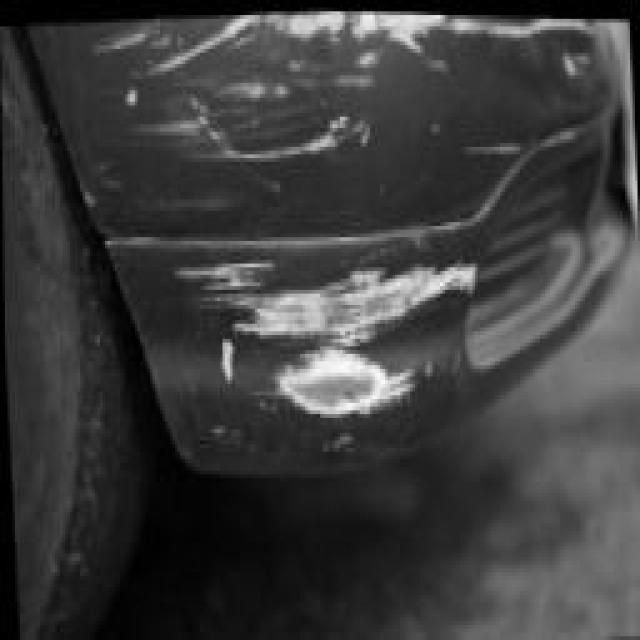Bumper: (52, 0, 636, 493)
